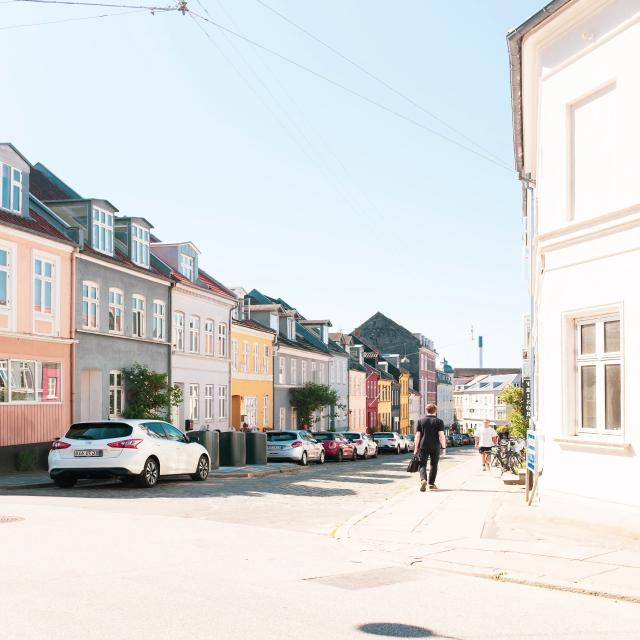adult: (413, 403, 447, 493), (473, 416, 498, 472)
